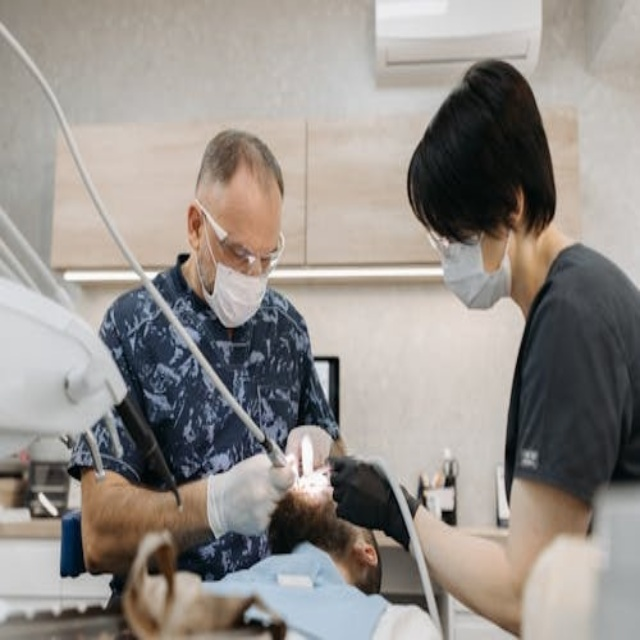Gafas: (197, 201, 285, 275), (423, 218, 480, 259)
Guantes: (326, 456, 420, 552), (206, 454, 297, 540), (285, 424, 335, 474)
Mascara: (193, 245, 276, 330), (434, 232, 515, 312)
